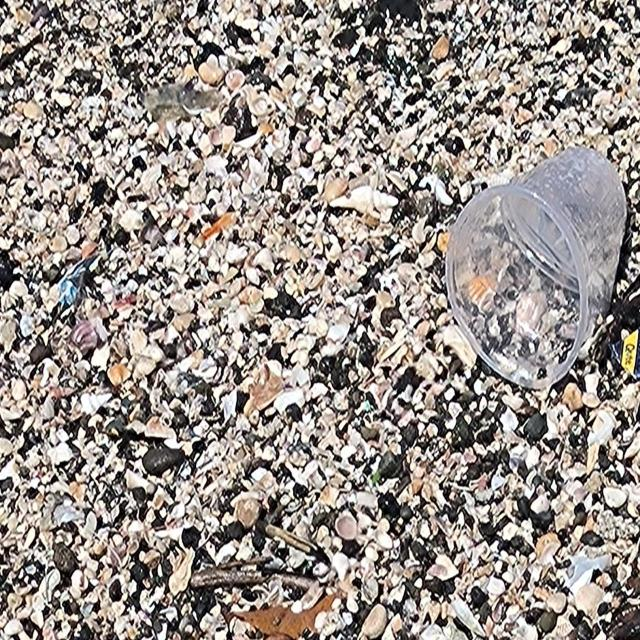plastic_waste: (445, 145, 630, 393)
